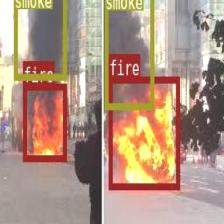fire: (108, 75, 178, 189), (22, 84, 66, 160)
smoke: (104, 0, 153, 109), (14, 0, 66, 78)
